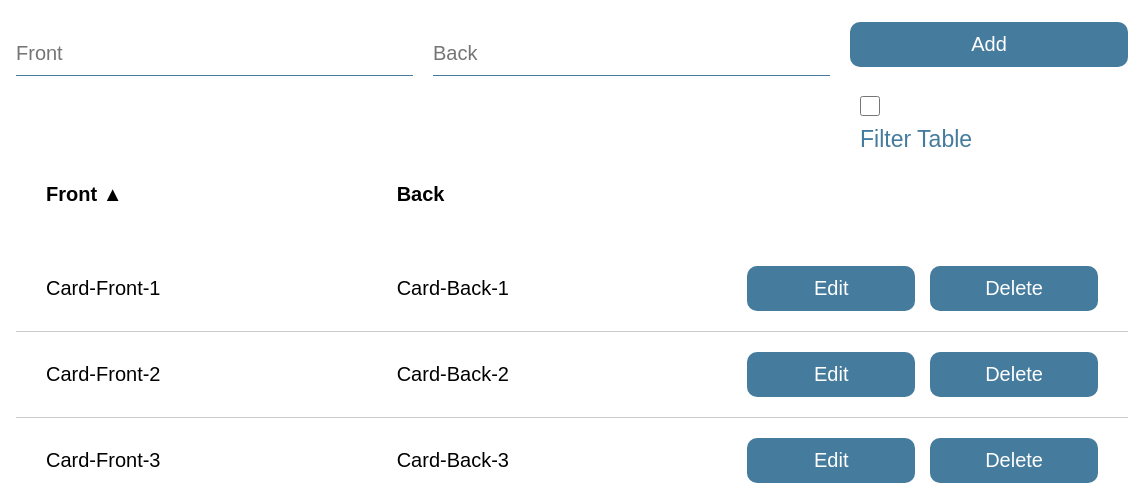
Test: ManageCardsPage Component › handles deleting a card
The image size is (1145, 500).
Expected: the text "Card-Front-1" is shown, [46,277,160,299]
Click the button "Delete" in the row of "Card-Back-1" at (1014, 288), box [930,266,1098,311]
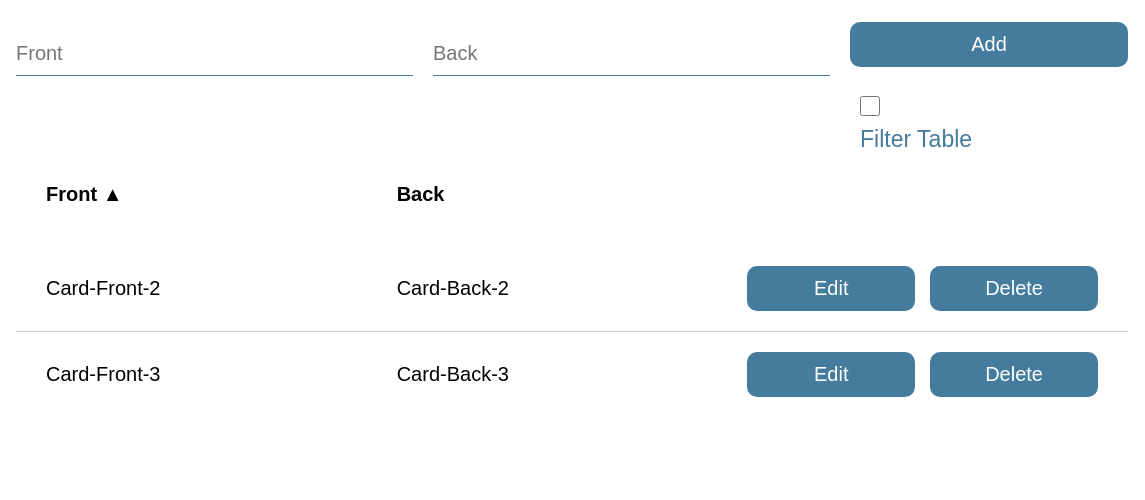
Expected: the text "Card-Front-1" is gone
